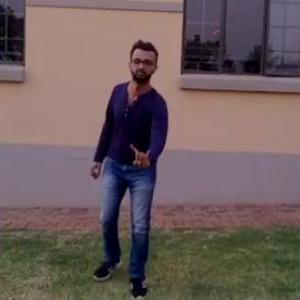takeoff-hand: (128, 136, 154, 171)
